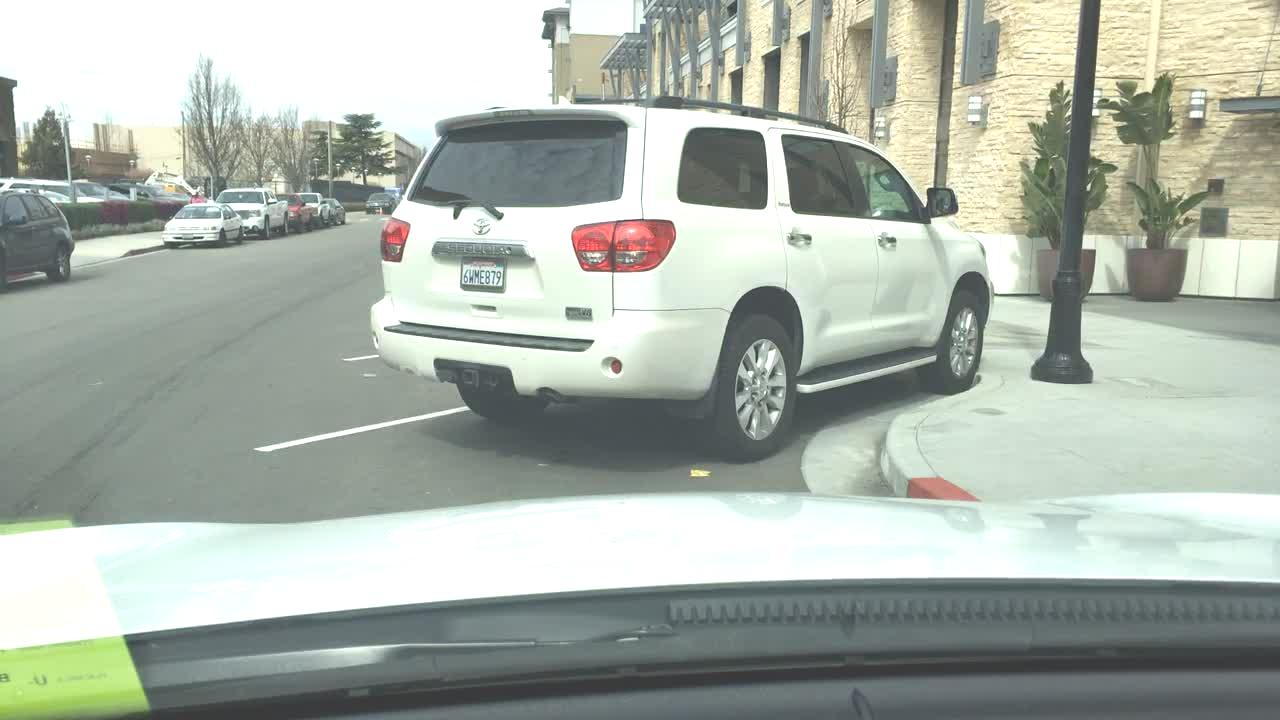Toyota: (467, 215, 498, 238)
